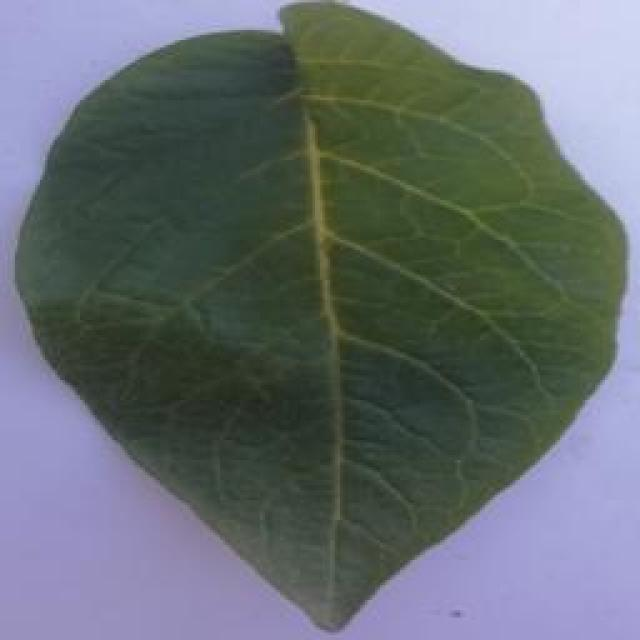Potato_Healthy: (15, 3, 618, 630)
